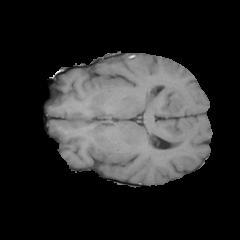glioma: (74, 54, 133, 121)
